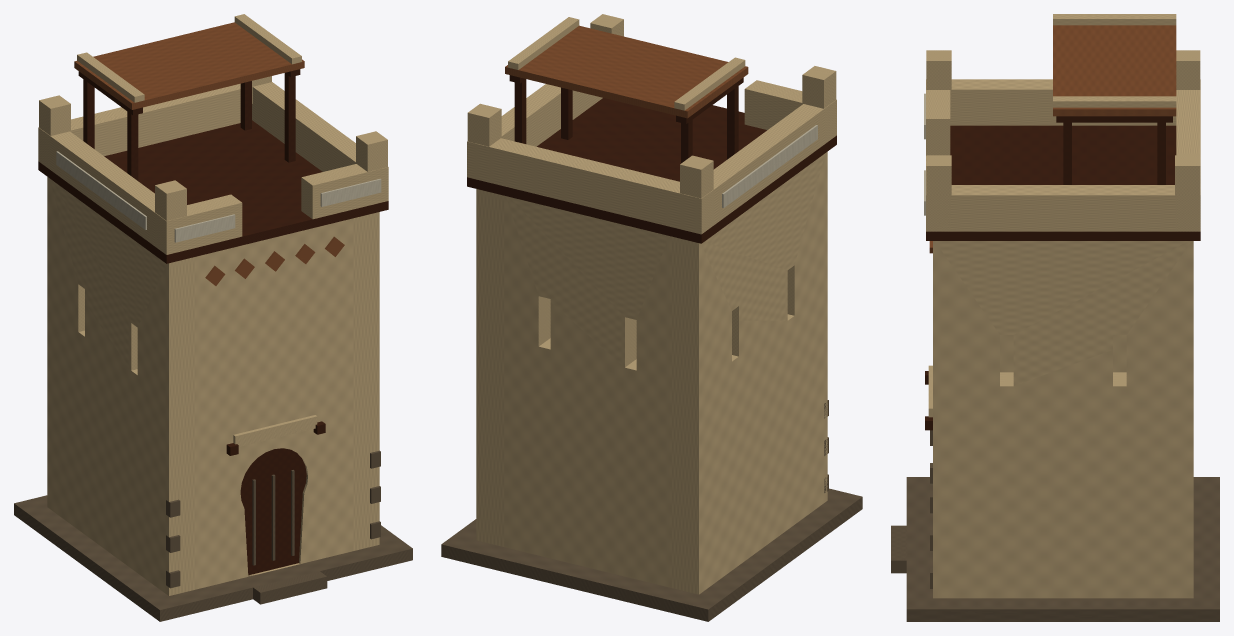
File: Berber_Outpost_Age4_base.fbx
3 renders of one model, left to right at view 1: azimuth 30°, elevation 25°; view 2: azimuth 150°, elevation 25°; view 3: azimuth 270°, elevation 25°, orthographic. The views are drawn at different scales.
Visible parts, largest first — view 1: west_thick_wall, south_thick_wall, lookout_floor, tower_foundation, fitted_flat_canopy, east_thick_wall, lookout_parapet_back, horseshoe_door, lookout_parapet_side.001, lookout_parapet_side, lookout_parapet_front.001, lookout_parapet_front (+14 smaller); view 2: north_thick_wall, west_thick_wall, lookout_floor, tower_foundation, lookout_parapet_back, fitted_flat_canopy, east_thick_wall, lookout_parapet_side, lookout_parapet_side.001, lookout_parapet_front, neutral_owner_side_band, corner_merlon.003 (+7 smaller); view 3: east_thick_wall, lookout_floor, tower_foundation, lookout_parapet_side.001, fitted_flat_canopy, lookout_parapet_side, lookout_parapet_back, lookout_parapet_front, stone_crown_coping.001, stone_crown_coping, corner_merlon, corner_merlon.002 (+8 smaller).
Part boxes in pixels (left/top/right/bottom): west_thick_wall: left=47, top=177, right=195, bottom=595; south_thick_wall: left=195, top=218, right=352, bottom=589; lookout_floor: left=38, top=120, right=388, bottom=263; tower_foundation: left=14, top=495, right=412, bottom=621; fitted_flat_canopy: left=74, top=22, right=304, bottom=109; east_thick_wall: left=353, top=212, right=379, bottom=550; lookout_parapet_back: left=38, top=83, right=240, bottom=168; horseshoe_door: left=240, top=448, right=306, bottom=575; lookout_parapet_side.001: left=252, top=82, right=355, bottom=171; lookout_parapet_side: left=49, top=131, right=160, bottom=248; lookout_parapet_front.001: left=301, top=164, right=388, bottom=219; lookout_parapet_front: left=155, top=194, right=242, bottom=254; north_thick_wall: left=504, top=196, right=670, bottom=587; west_thick_wall: left=671, top=152, right=827, bottom=594; lookout_floor: left=467, top=98, right=836, bottom=243; tower_foundation: left=441, top=488, right=862, bottom=621; lookout_parapet_back: left=467, top=138, right=713, bottom=234; fitted_flat_canopy: left=505, top=25, right=748, bottom=118; east_thick_wall: left=476, top=189, right=504, bottom=547; lookout_parapet_side: left=713, top=104, right=830, bottom=225; lookout_parapet_side.001: left=501, top=84, right=602, bottom=146; lookout_parapet_front: left=744, top=80, right=836, bottom=143; neutral_owner_side_band: left=722, top=125, right=817, bottom=207; corner_merlon.003: left=467, top=103, right=501, bottom=146; east_thick_wall: left=933, top=241, right=1193, bottom=598; lookout_floor: left=926, top=125, right=1200, bottom=240; tower_foundation: left=906, top=477, right=1219, bottom=621; lookout_parapet_side.001: left=938, top=185, right=1187, bottom=231; fitted_flat_canopy: left=1053, top=25, right=1176, bottom=116; lookout_parapet_side: left=950, top=79, right=1176, bottom=125; lookout_parapet_back: left=1176, top=79, right=1200, bottom=231; lookout_parapet_front: left=926, top=79, right=950, bottom=155; stone_crown_coping.001: left=1053, top=96, right=1176, bottom=107; stone_crown_coping: left=1053, top=14, right=1176, bottom=25; corner_merlon: left=926, top=50, right=951, bottom=108; corner_merlon.002: left=926, top=155, right=951, bottom=195.
Size of the model in its own units: 360 by 632 by 378.
5 materials, 5 textured.
